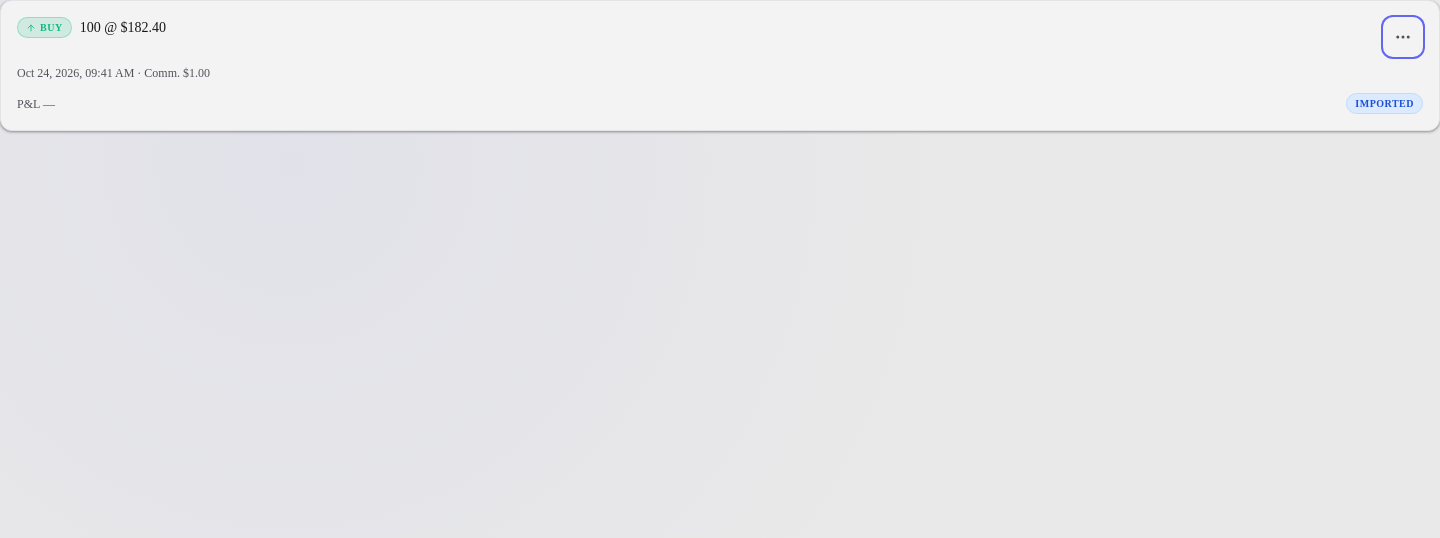
ExecutionLegCard editing › discards edits on Cancel and reopens with the persisted values
Press Enter
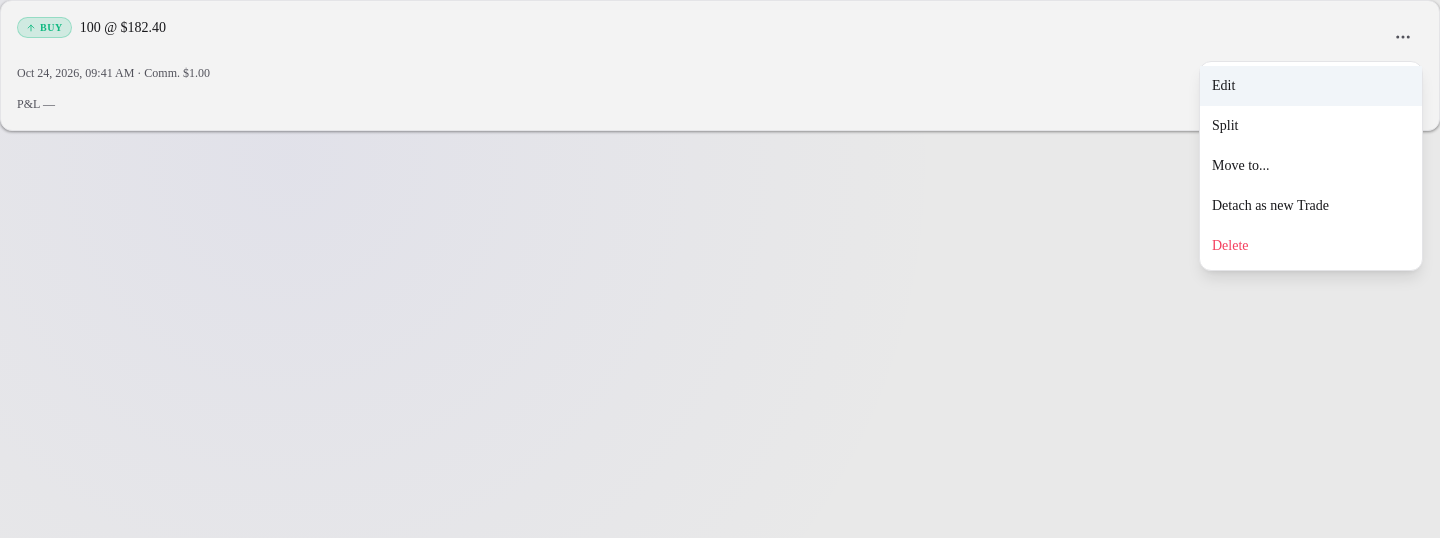
Click the menu item "Edit" at (1311, 86), box [1200,66,1422,106]
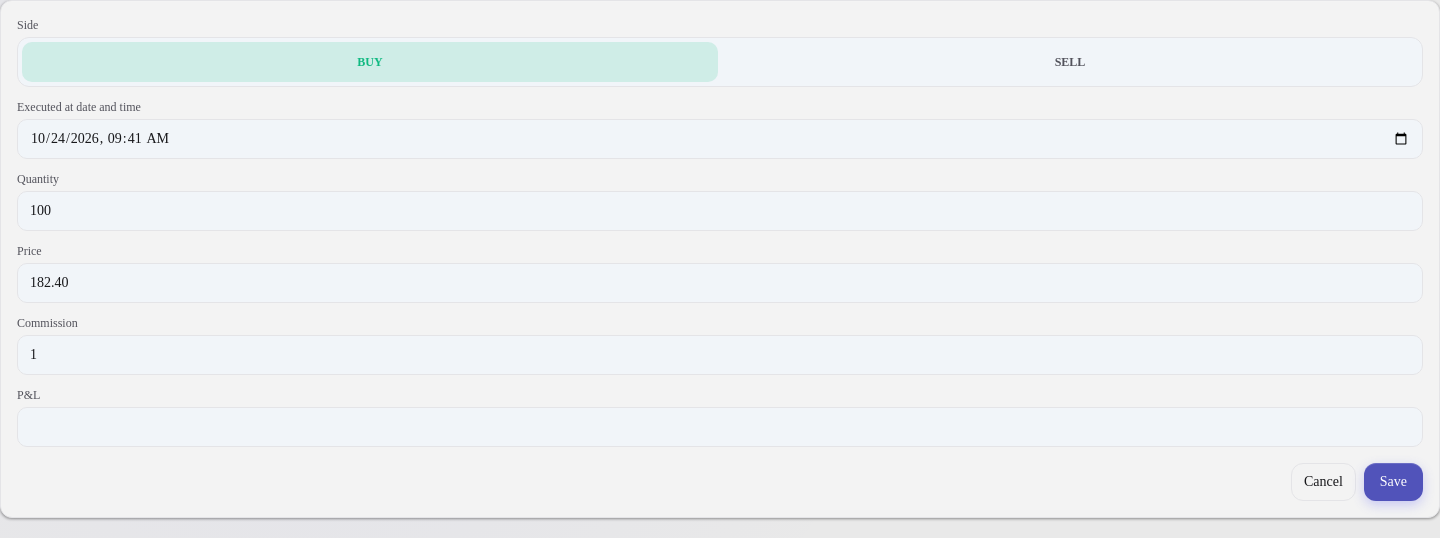
Replace the text in the number field labelled "Price" with "999" at (720, 283), box [17,263,1423,303]
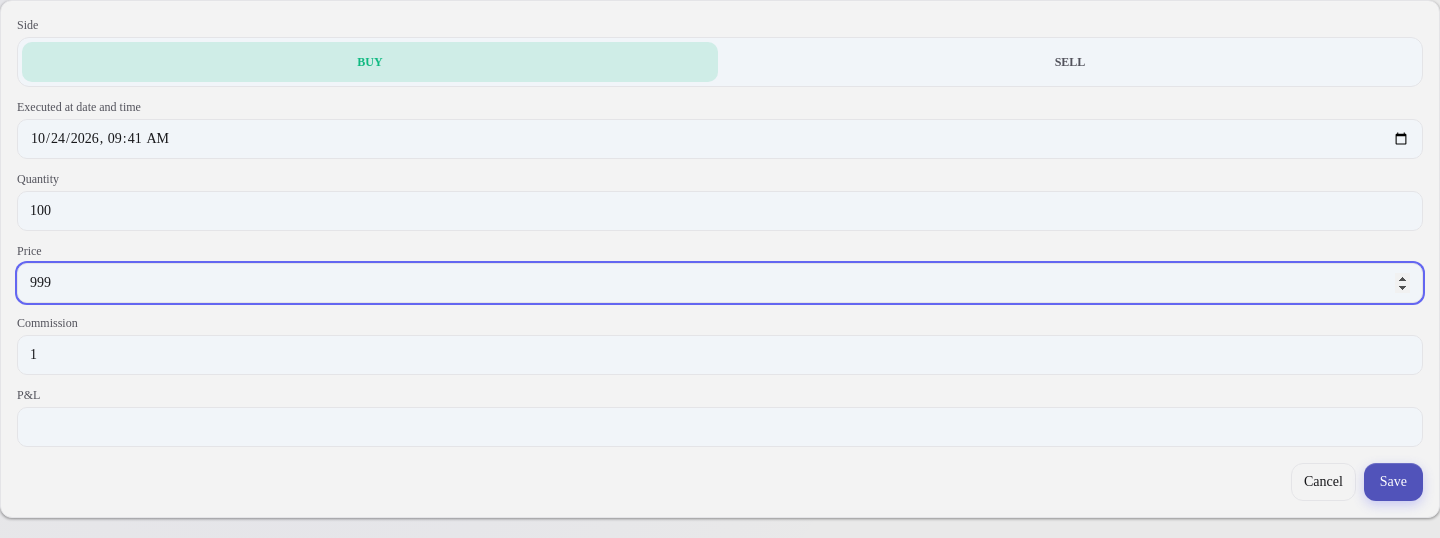
Click the button "Cancel" at (1323, 482), box [1291,463,1356,501]
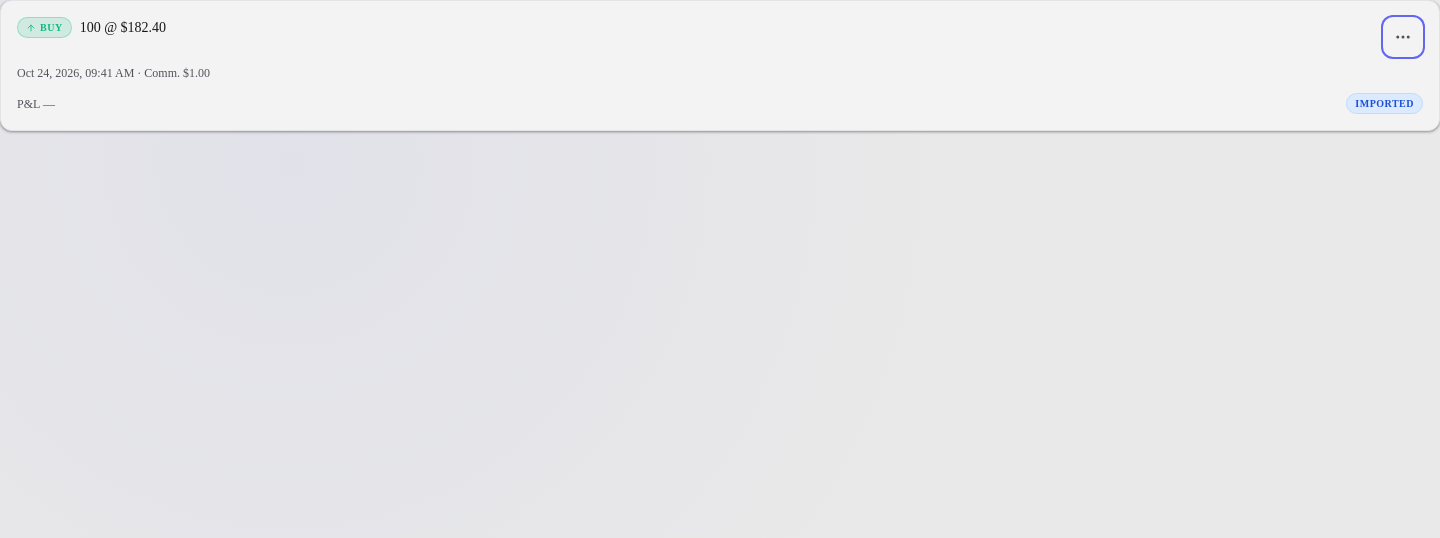
Press Enter
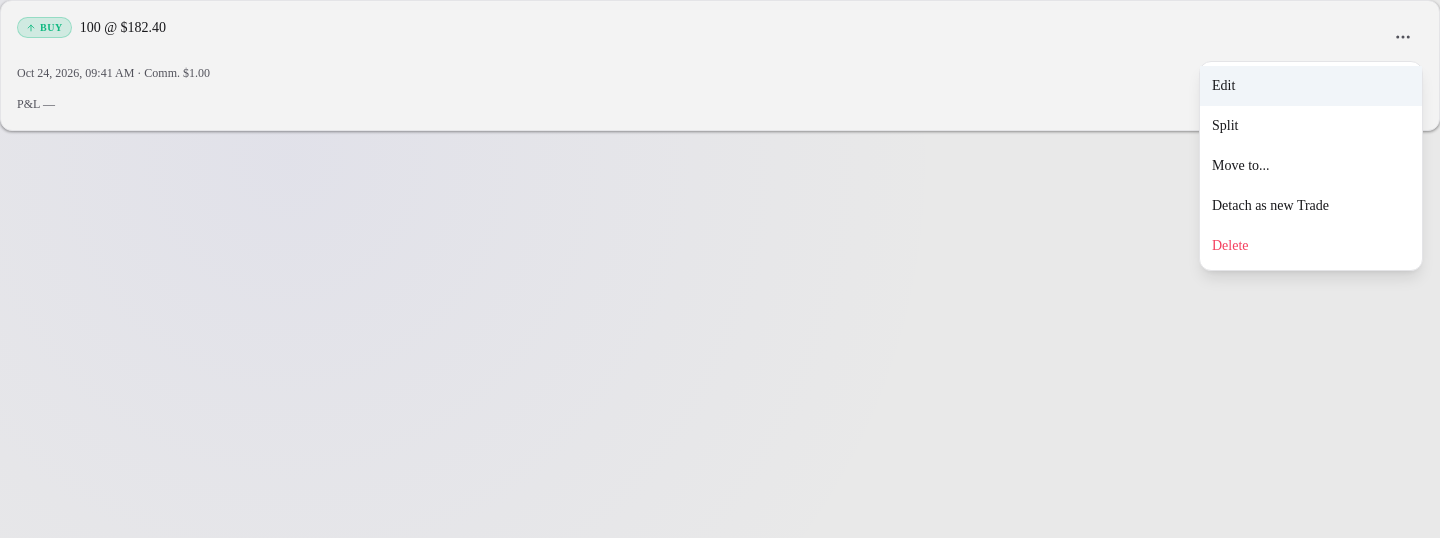
Click the menu item "Edit" at (1311, 86), box [1200,66,1422,106]
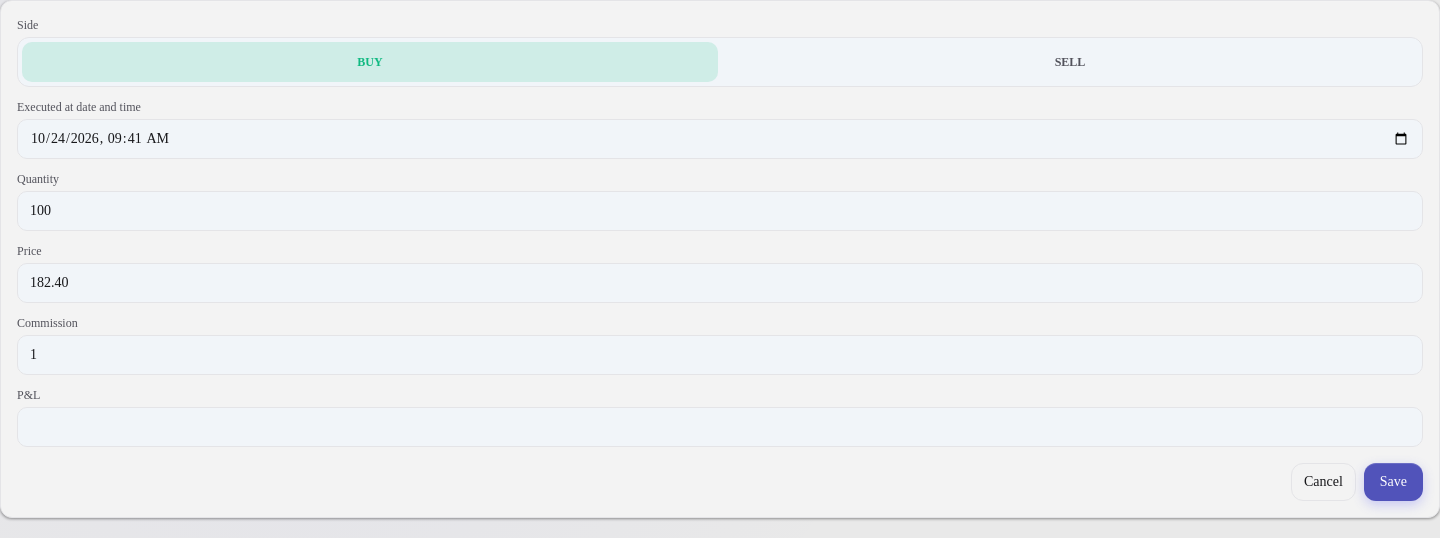
Now the number field labelled "Price" holds "182.4", box [17,263,1423,303]
